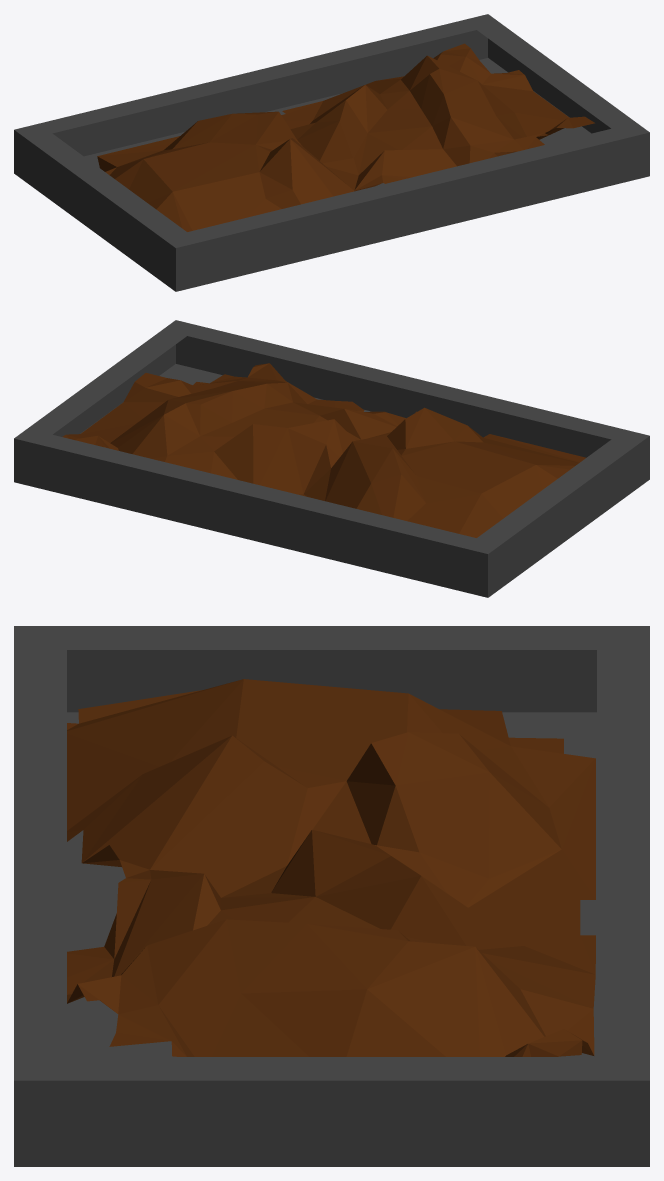
The model's file is hernyadlyamogil.fbx.
The picture shows the model from 3 angles, top to bottom: view 1: azimuth 30°, elevation 25°; view 2: azimuth 150°, elevation 25°; view 3: azimuth 270°, elevation 25°; orthographic projection. The views are drawn at different scales.
Visible parts, largest first — view 1: Cube.001, Grid; view 2: Cube.001, Grid; view 3: Grid, Cube.001.
Boxes of the visible parts, x1,y1,x2,y2 form: Cube.001: [14, 14, 649, 291]; Grid: [97, 43, 594, 231]; Cube.001: [14, 320, 649, 597]; Grid: [62, 363, 586, 537]; Grid: [67, 679, 595, 1056]; Cube.001: [14, 626, 649, 1166].
Size of the model in its own units: 385 by 55.17 by 228.
